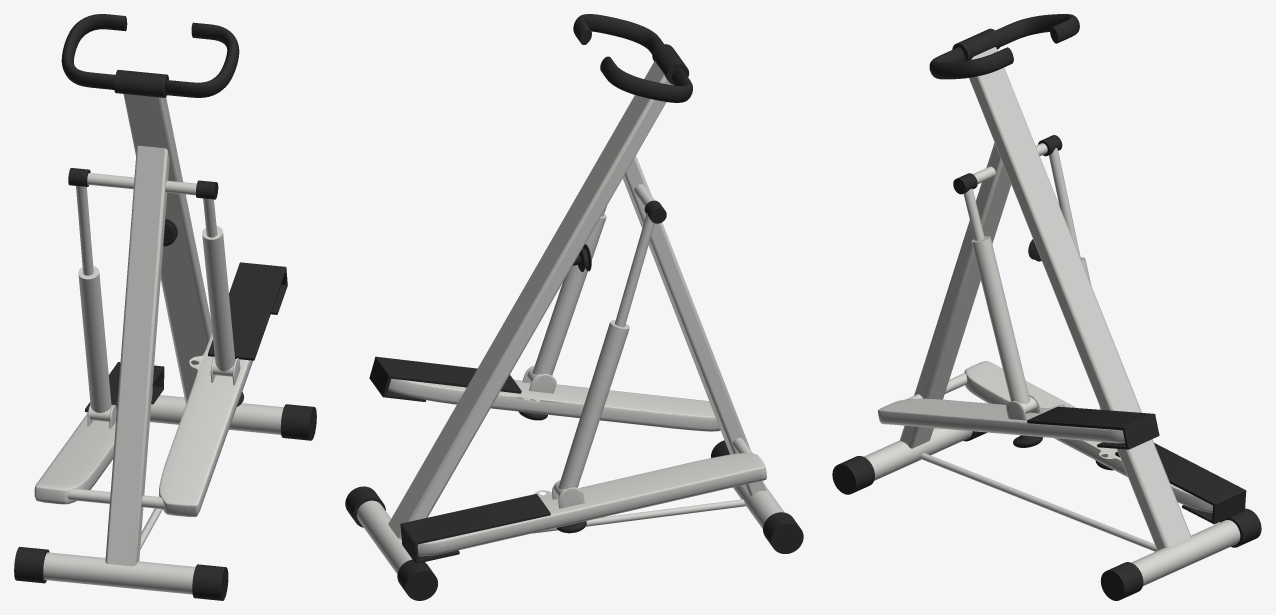
File: step_glute.fbx
The picture shows the model from 3 angles, left to right: view 1: azimuth 30°, elevation 25°; view 2: azimuth 150°, elevation 25°; view 3: azimuth 270°, elevation 25°; orthographic projection. The views are drawn at different scales.
Visible parts, largest first — view 1: gym_step_glute; view 2: gym_step_glute; view 3: gym_step_glute.
Part boxes in pixels (x1=…): gym_step_glute: x1=14, y1=14, x2=316, y2=600; gym_step_glute: x1=345, y1=14, x2=803, y2=600; gym_step_glute: x1=832, y1=14, x2=1261, y2=600.
Size of the model in its own units: 196 by 243 by 201.
